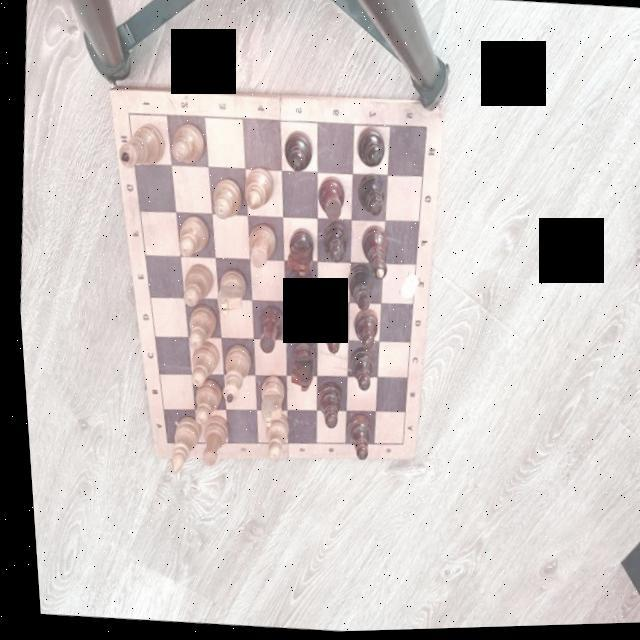chess-table-corners: (121, 109, 133, 120), (419, 123, 429, 136), (158, 438, 166, 448), (392, 442, 400, 451)
